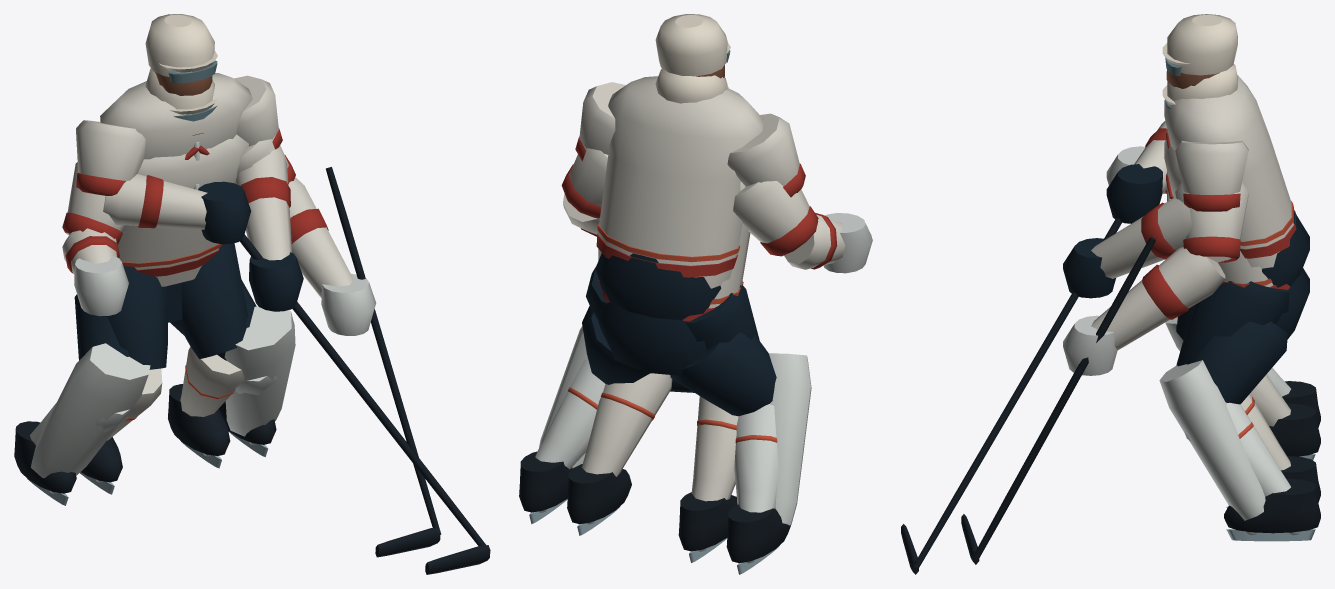
Rendered from players.glb.
The picture shows the model from 3 angles, left to right: view 1: azimuth 30°, elevation 25°; view 2: azimuth 150°, elevation 25°; view 3: azimuth 270°, elevation 25°; orthographic projection. The views are drawn at different scales.
Visible parts, largest first — view 1: Away_Skater_Body, Away_Goalie_Body, Away_Goalie_Left, Away_Skater_Right, Away_Goalie_Right, Away_Skater_Left; view 2: Away_Skater_Body, Away_Goalie_Body, Away_Goalie_Left, Away_Goalie_Right, Away_Skater_Left, Away_Skater_Right; view 3: Away_Skater_Body, Away_Goalie_Body, Away_Goalie_Right, Away_Skater_Right, Away_Skater_Left, Away_Goalie_Left.
Boxes of the visible parts, <box> form: Away_Skater_Body: <box>76,14,490,574</box>; Away_Goalie_Body: <box>62,68,441,557</box>; Away_Goalie_Left: <box>14,294,150,505</box>; Away_Skater_Right: <box>168,243,248,468</box>; Away_Goalie_Right: <box>170,280,295,457</box>; Away_Skater_Left: <box>80,266,167,494</box>; Away_Skater_Body: <box>575,14,805,319</box>; Away_Goalie_Body: <box>561,68,872,392</box>; Away_Goalie_Left: <box>670,332,811,574</box>; Away_Goalie_Right: <box>519,306,650,524</box>; Away_Skater_Left: <box>678,285,759,562</box>; Away_Skater_Right: <box>567,267,672,535</box>; Away_Skater_Body: <box>901,14,1309,574</box>; Away_Goalie_Body: <box>961,64,1309,564</box>; Away_Goalie_Right: <box>1159,321,1320,541</box>; Away_Skater_Right: <box>1176,281,1320,508</box>; Away_Skater_Left: <box>1176,304,1320,460</box>; Away_Goalie_Left: <box>1165,317,1320,427</box>.
Bounding box in the file's own units: 1.13 × 1.69 × 1.35.
